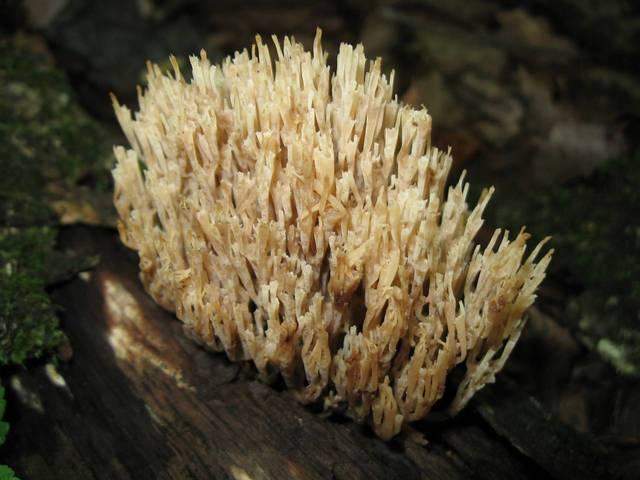Edible Mushroom: (106, 25, 555, 442)
